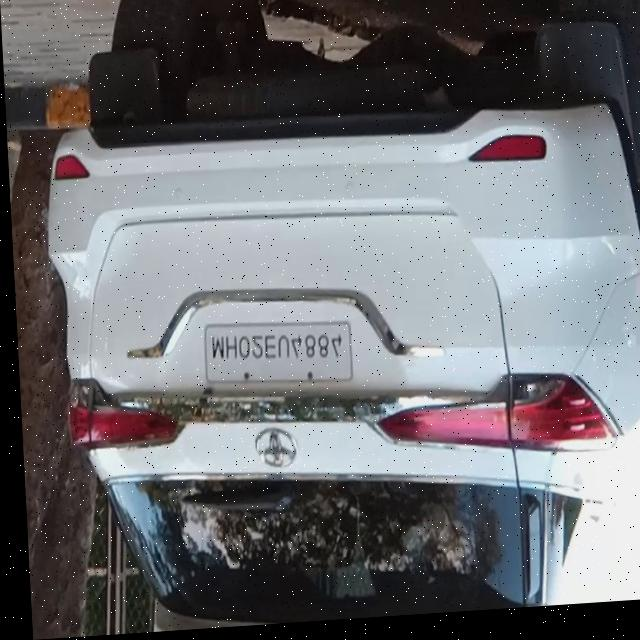plate: (198, 321, 349, 395)
